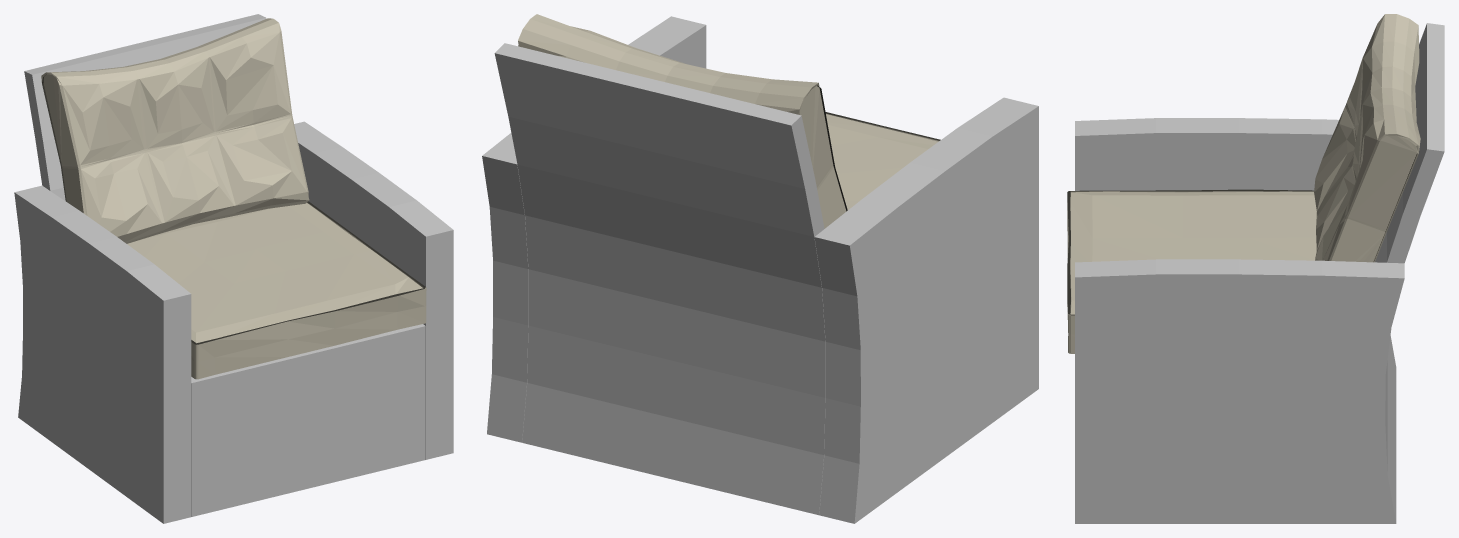
The model's file is rattanArmchair.obj.
The picture shows the model from 3 angles, left to right: view 1: azimuth 30°, elevation 25°; view 2: azimuth 150°, elevation 25°; view 3: azimuth 270°, elevation 25°; orthographic projection. The views are drawn at different scales.
Visible parts, largest first — view 1: armchair_Cube.001, backCushion_Cube.003, baseCushion_Cube.002; view 2: armchair_Cube.001, backCushion_Cube.003, baseCushion_Cube.002; view 3: armchair_Cube.001, baseCushion_Cube.002, backCushion_Cube.003.
Boxes of the visible parts, box(x1,y1,x2,y2) form: armchair_Cube.001: box(14, 14, 453, 523); backCushion_Cube.003: box(41, 18, 309, 243); baseCushion_Cube.002: box(127, 201, 426, 379); armchair_Cube.001: box(482, 16, 1038, 523); backCushion_Cube.003: box(518, 14, 847, 228); baseCushion_Cube.002: box(825, 112, 940, 210); armchair_Cube.001: box(1075, 23, 1444, 523); baseCushion_Cube.002: box(1067, 189, 1316, 353); backCushion_Cube.003: box(1314, 14, 1420, 262).
Bounding box in the file's own units: 71.04 × 78.71 × 72.45.
